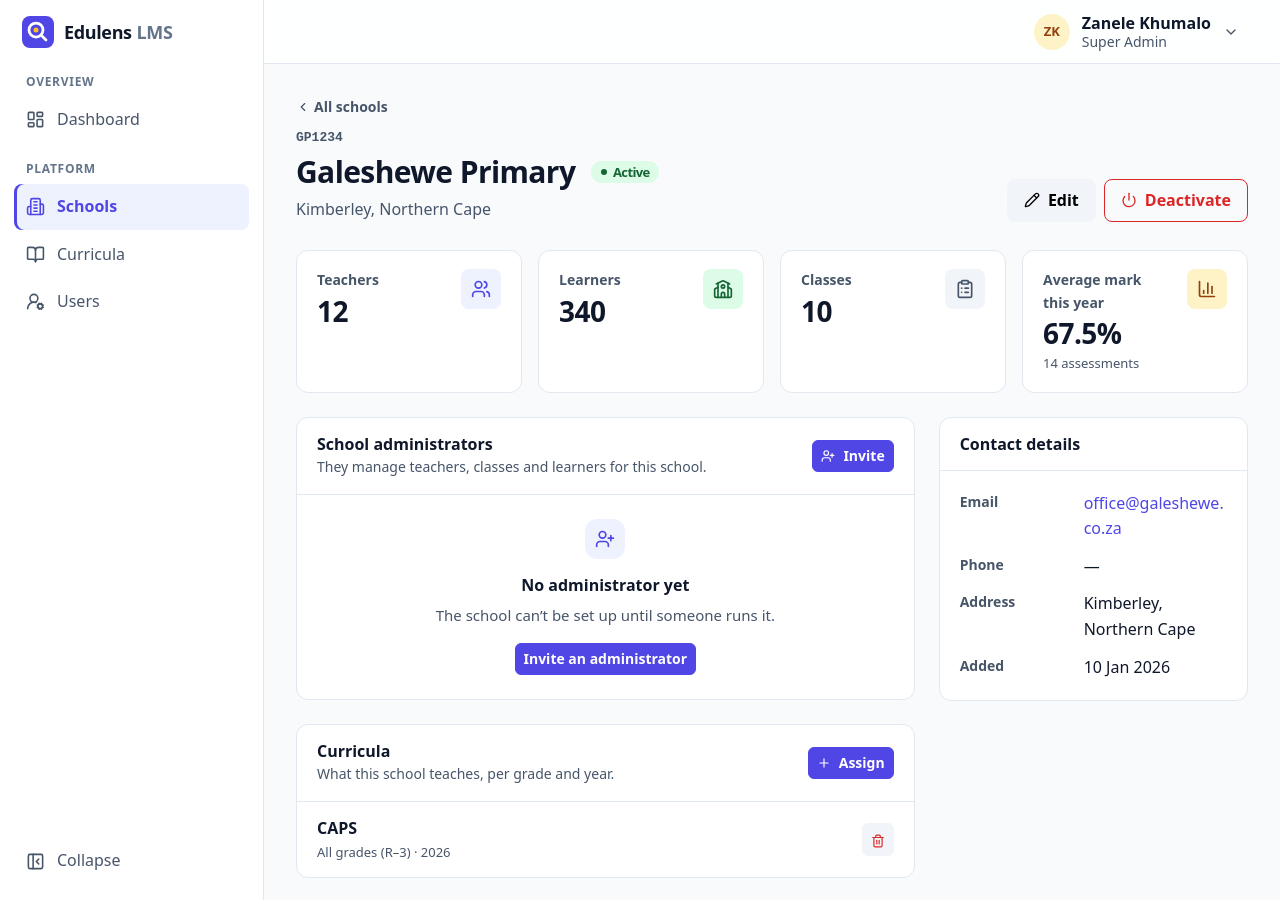
School detail › shows stats, curricula and the invitation link after inviting an admin
Check: the text "67.5%" is shown, box [1043, 314, 1122, 352]
Check: the text "All grades (R–3) · 2026" is shown, box [317, 842, 451, 863]
Click the button "Invite an administrator" at (605, 659), box [514, 643, 696, 675]
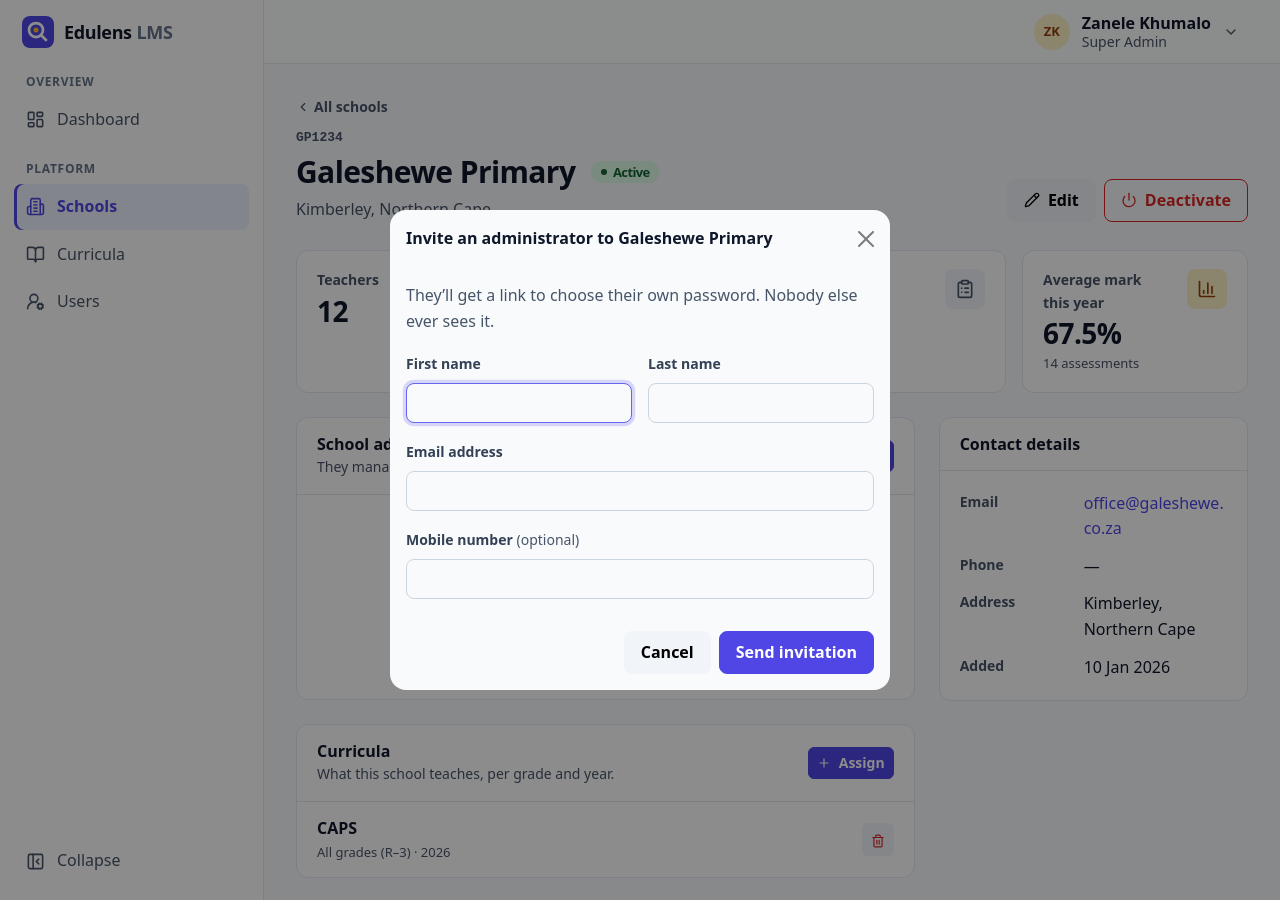
Type "Ayanda" into the field labelled "First name" at (519, 403), box [406, 383, 632, 423]
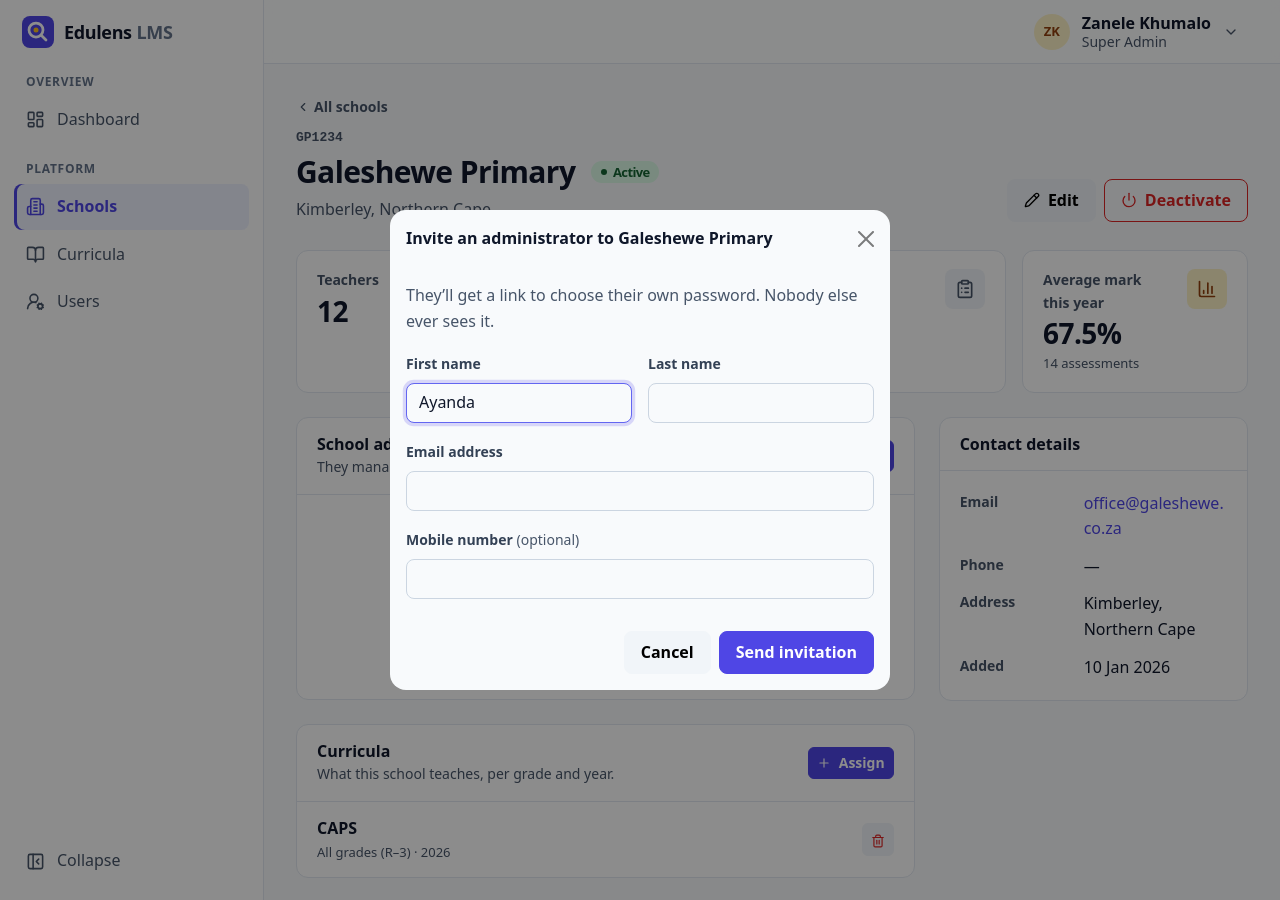
Type "Dlamini" into the field labelled "Last name" at (761, 403), box [648, 383, 874, 423]
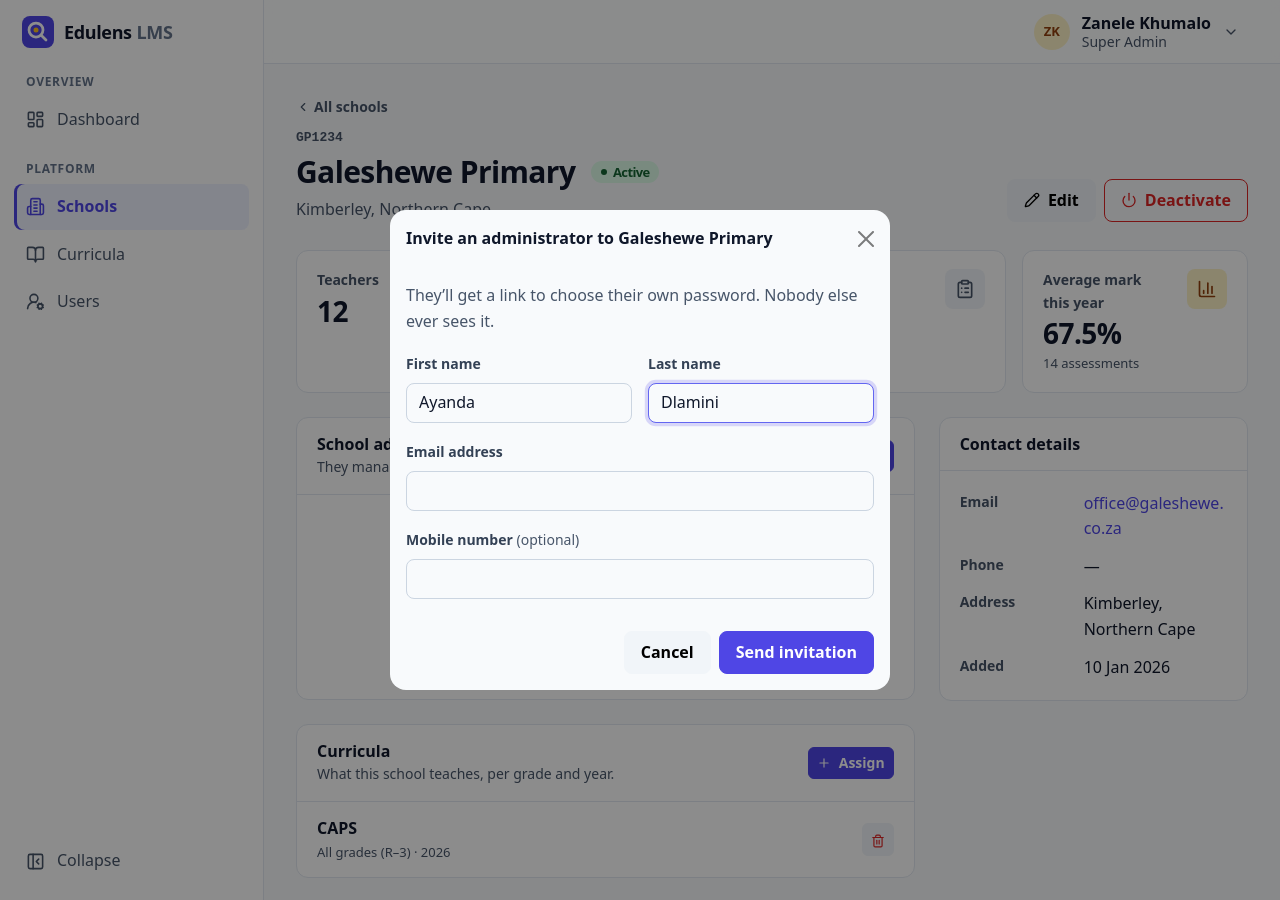
Type "ayanda@galeshewe.co.za" into the field labelled "Email address" at (640, 491), box [406, 471, 874, 511]
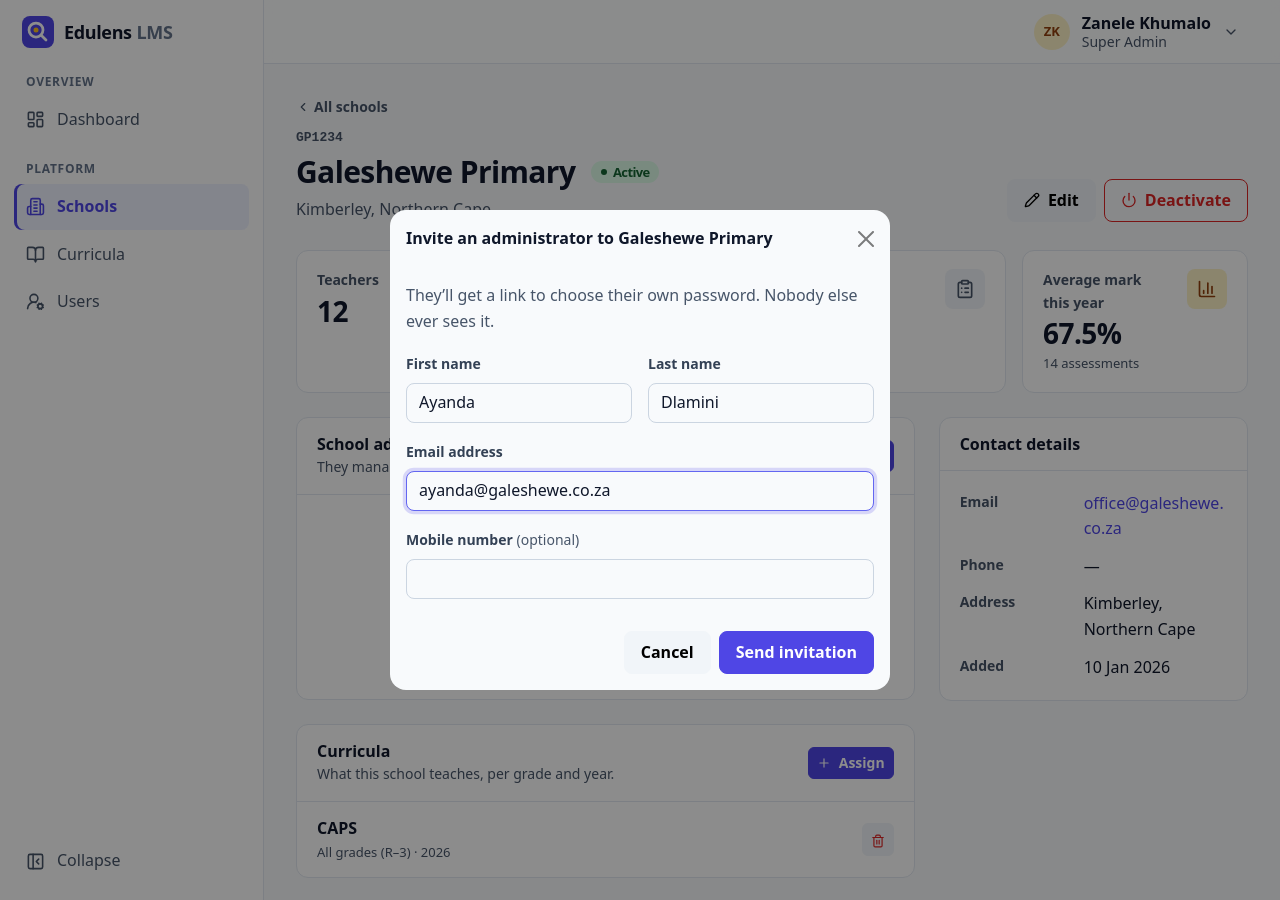
Click the button "Send invitation" at (796, 652), box [719, 631, 874, 674]
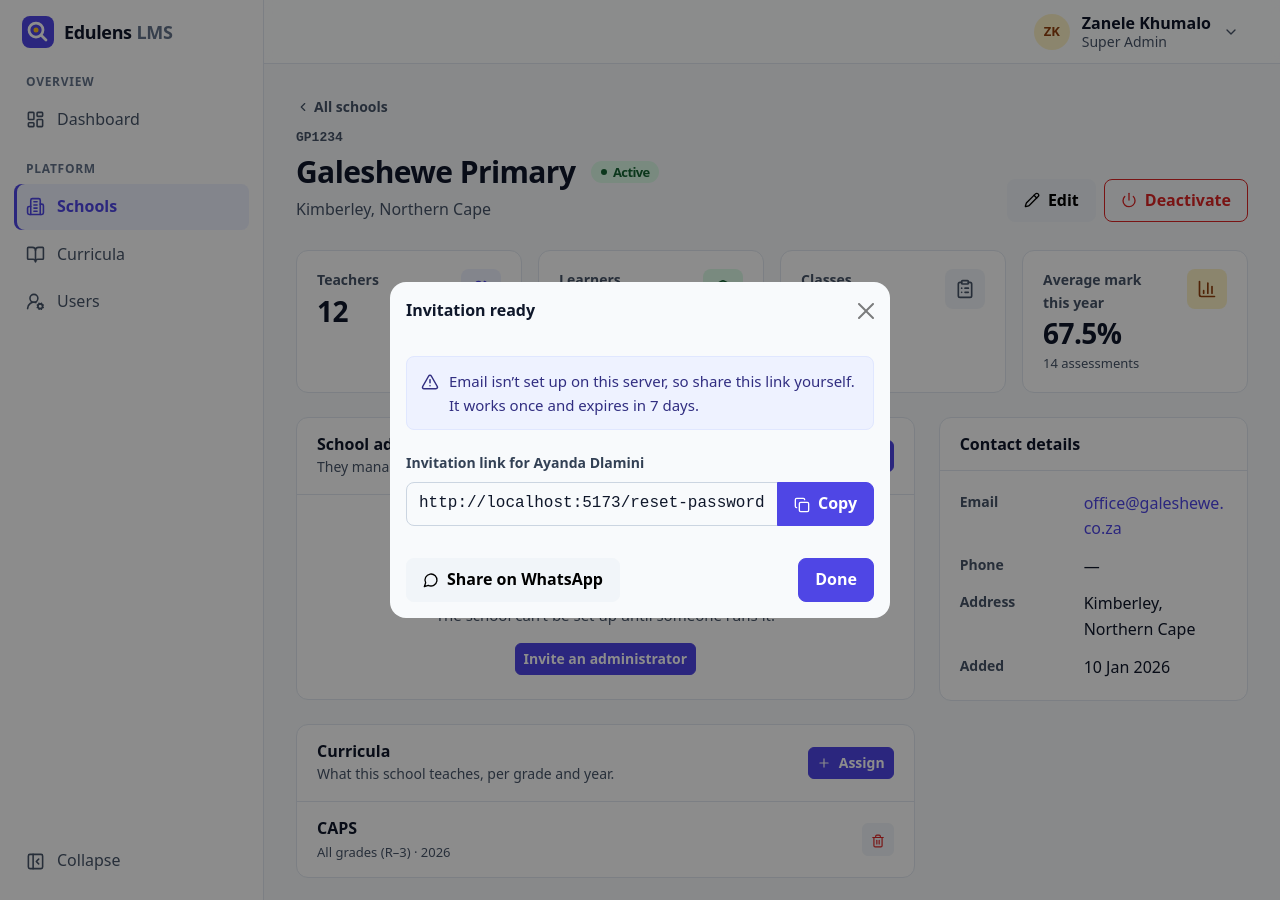
Check: the field showing "http://localhost:5173/reset-password?token=abc&invite=1" is shown, box [406, 482, 778, 526]
Check: the text "Email isn’t set up" is shown, box [449, 371, 855, 391]
